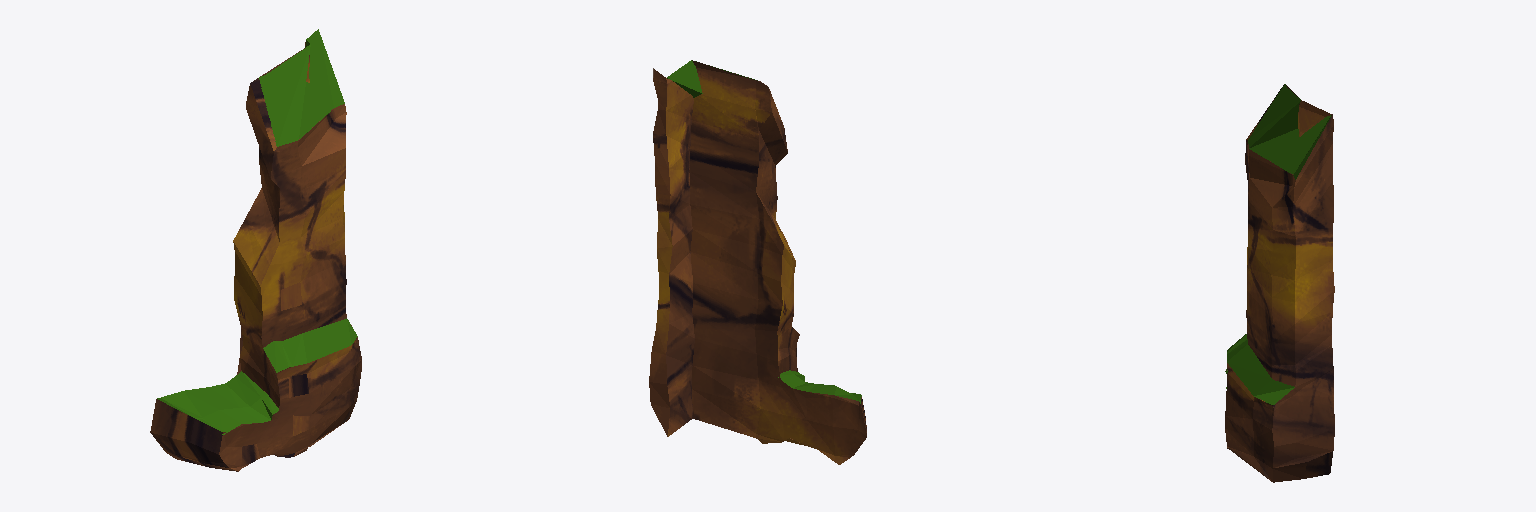
The picture shows the model from 3 angles: view 1: azimuth 30°, elevation 25°; view 2: azimuth 150°, elevation 25°; view 3: azimuth 270°, elevation 25°; orthographic projection.
Visible parts, largest first — view 1: Plane.037_Plane.040; view 2: Plane.037_Plane.040; view 3: Plane.037_Plane.040.
Part boxes in pixels (bbox=[...]): Plane.037_Plane.040: bbox=[150, 29, 361, 471]; Plane.037_Plane.040: bbox=[649, 60, 866, 464]; Plane.037_Plane.040: bbox=[1225, 84, 1334, 482].
Bounding box in the file's own units: 130 × 228 × 60.55.
Materials: 1 (1 with a texture image).